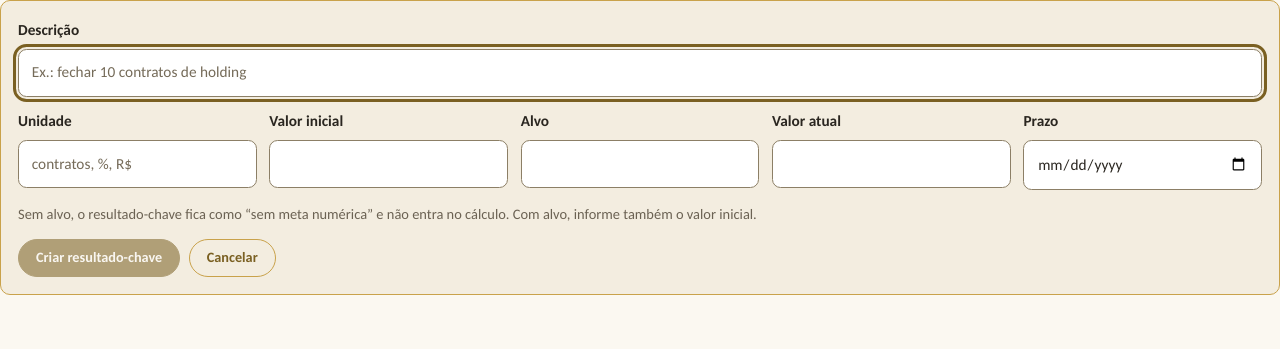
Test: com alvo, o valor inicial é obrigatório
This screenshot has width=1280, height=349.
Type "Zerar inadimplência" into the field labelled "Descrição" at [640, 73], box [18,49,1262,96]
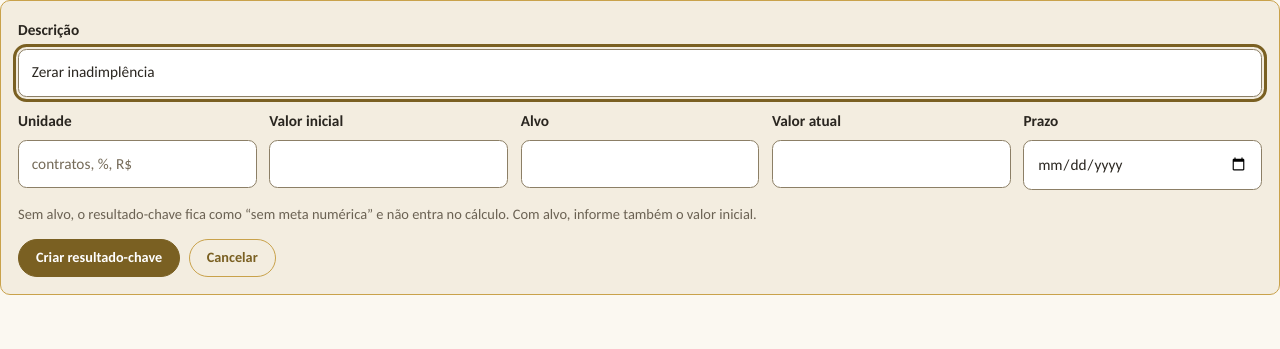
Type "0" into the field labelled "Alvo" at [640, 164], box [521,140,759,188]
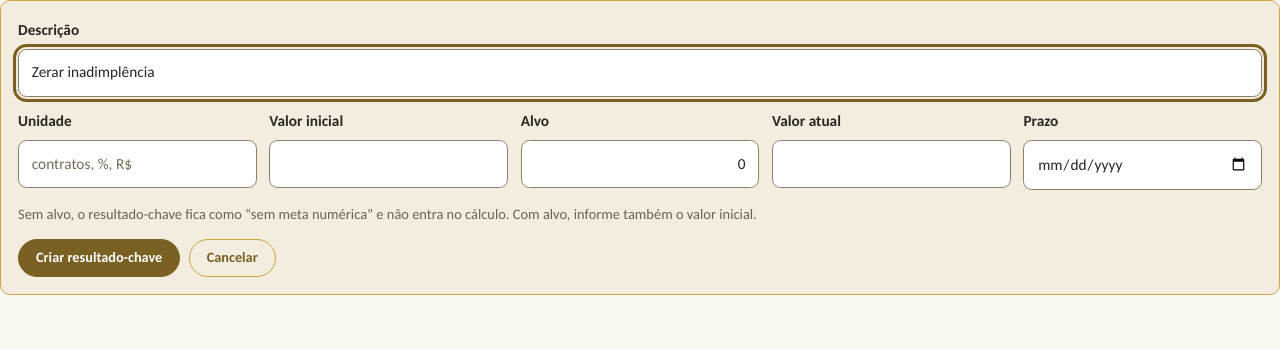
Click the button "Criar resultado-chave" at [99, 258], box [18,238,180,276]
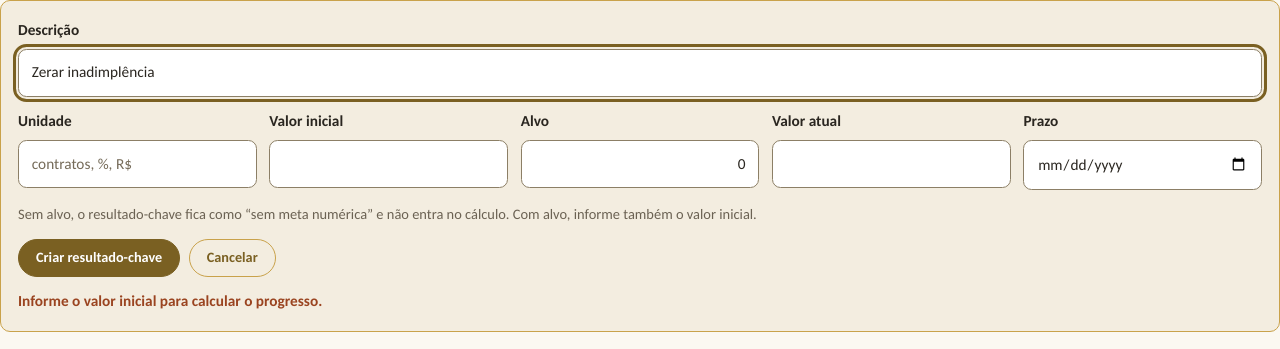
Result: the message reads "Informe o valor inicial para calcular o progresso." at [18,291,322,310]
